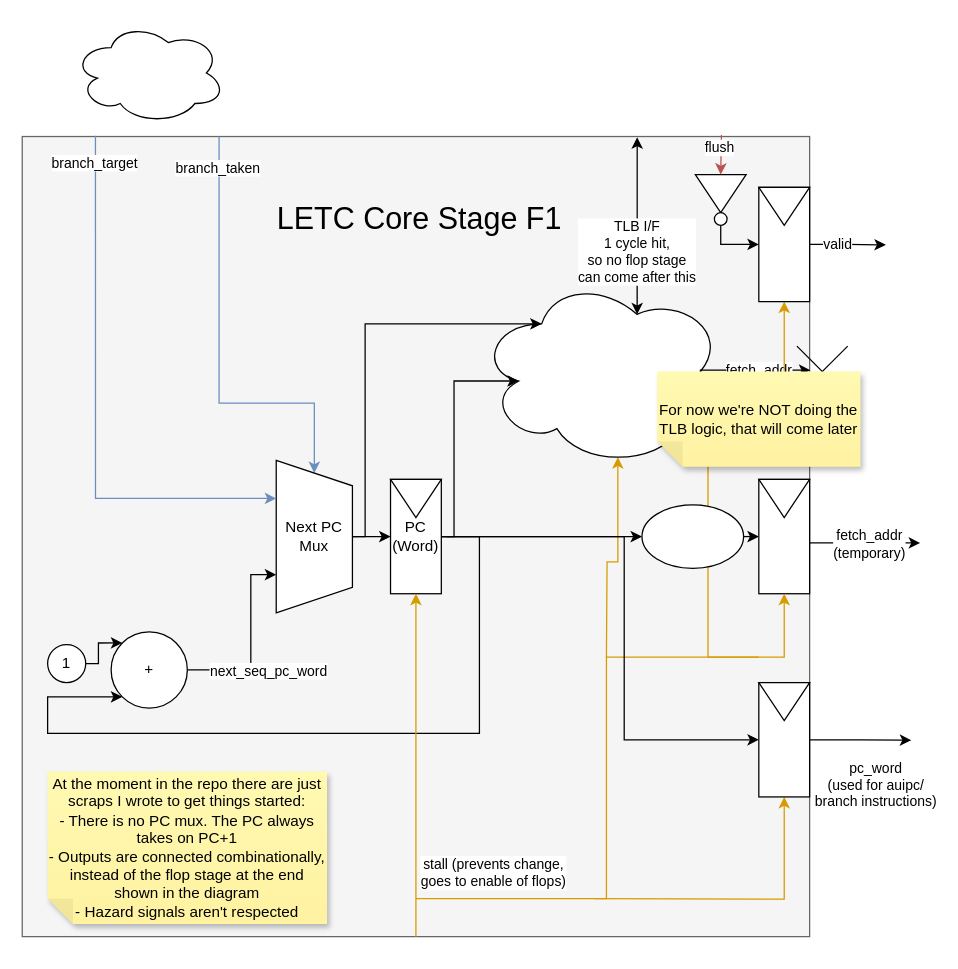
This 958x969 diagram has some shape labels left out. The shapes that lost their labels are listed below. From the top down, each one's centre as x and y in pixels, then its label:
At [148,72]: "From Decode Stage".
At [604,371]: "TLB Interface Logic".
At [692,536]: "Concat to 32 bits long".
